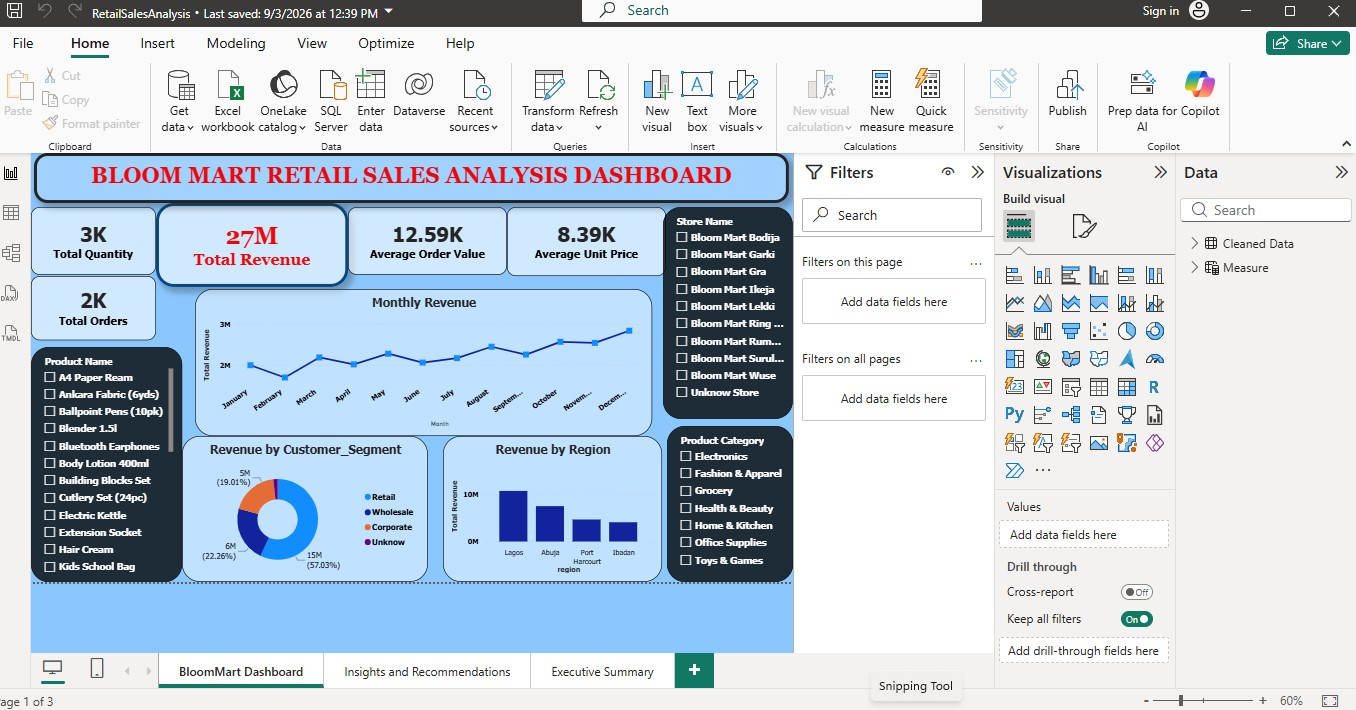

Layout of this report page (visuals, bound fields, positions):
{"tool":"powerbi","page":{"name":"BloomMart Dashboard","canvas":[1280,720],"ordinal":0},"visuals":[{"type":"cardVisual","fields":{"Data":["Measure.Total Revenue"]},"box":[210,84,322.5,141.1],"z":0},{"type":"cardVisual","fields":{"Data":["Measure.Average Unit Price"]},"box":[799.6,90.7,267.1,115.9],"z":1000},{"type":"cardVisual","fields":{"Data":["Measure.Total Quantity"]},"box":[0,90.7,210,114.2],"z":2000},{"type":"cardVisual","fields":{"Data":["Measure.Total Orders"]},"box":[0,206.6,210,107.5],"z":3000},{"type":"cardVisual","fields":{"Data":["Measure.Average Order Value"]},"box":[532.5,90.7,267.1,114.2],"z":4000},{"type":"columnChart","title":"Revenue by Region","fields":{"Category":["Cleaned Data.region"],"Y":["Measure.Total Revenue"]},"box":[692.1,475.4,367.9,245.2],"z":5000},{"type":"donutChart","title":"Revenue by Customer_Segment","fields":{"Category":["Cleaned Data.customer_segment"],"Y":["Measure.Total Revenue"]},"box":[253.6,475.4,413.2,245.2],"z":6000},{"type":"lineChart","title":"Monthly Revenue","fields":{"Category":["Cleaned Data.order_date.Variation.Date Hierarchy.Month"],"Y":["Measure.Total Revenue"]},"box":[275.5,228.5,767.7,246.9],"z":7000},{"type":"slicer","title":"Revenue by Supplier","fields":{"Values":["Cleaned Data.product_category"]},"box":[1068.3,458.6,211.7,262],"z":9000},{"type":"slicer","title":"Revenue by Supplier","fields":{"Values":["Cleaned Data.store_name"]},"box":[1061.6,90.7,218.4,356.1],"z":10000},{"type":"textbox","box":[5,0,1268.2,84],"z":11000},{"type":"slicer","title":"Revenue by Supplier","fields":{"Values":["Cleaned Data.product_name"]},"box":[0,325.9,253.6,394.8],"z":12000}]}

Visuals, with their boxes on the page's 1280x720 design canvas (x1, y1, x2, y2). These are canvas units, not pixel positions in the 1356x710 screenshot, which may show the page scaled, cropped or inside an application window:
cardVisual - Measure.Total Revenue: crop(210, 84, 532, 225)
cardVisual - Measure.Average Unit Price: crop(800, 91, 1067, 207)
cardVisual - Measure.Total Quantity: crop(0, 91, 210, 205)
cardVisual - Measure.Total Orders: crop(0, 207, 210, 314)
cardVisual - Measure.Average Order Value: crop(532, 91, 800, 205)
"Revenue by Region" columnChart: crop(692, 475, 1060, 721)
"Revenue by Customer_Segment" donutChart: crop(254, 475, 667, 721)
"Monthly Revenue" lineChart: crop(276, 228, 1043, 475)
"Revenue by Supplier" slicer: crop(1068, 459, 1280, 721)
"Revenue by Supplier" slicer: crop(1062, 91, 1280, 447)
textbox: crop(5, 0, 1273, 84)
"Revenue by Supplier" slicer: crop(0, 326, 254, 721)
